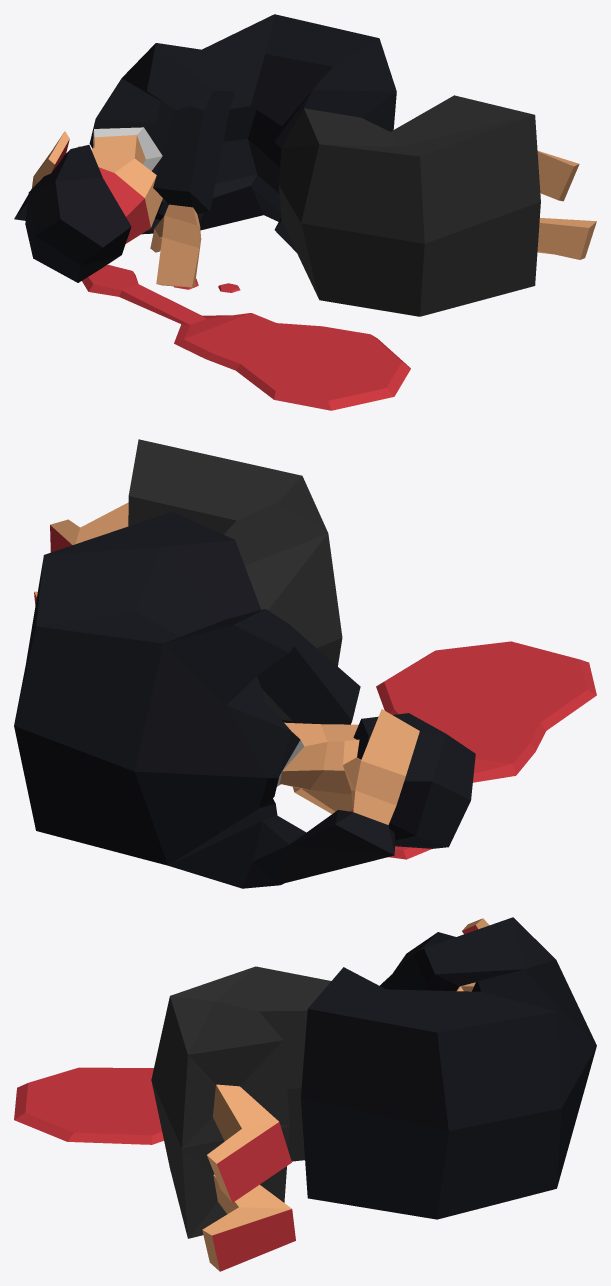
The model's file is apocalypse-man-samurai-black-dead-a.glb.
3 views of the same model, one above another, from view 1: azimuth 30°, elevation 25°; view 2: azimuth 150°, elevation 25°; view 3: azimuth 270°, elevation 25° (orthographic). The views are drawn at different scales.
Visible parts, largest first — view 1: man-samurai-black-dead-a; view 2: man-samurai-black-dead-a; view 3: man-samurai-black-dead-a.
Part boxes in pixels (x1,y1,x2,y2): man-samurai-black-dead-a: (14,14,596,410); man-samurai-black-dead-a: (14,439,596,888); man-samurai-black-dead-a: (14,917,596,1271).
Bounding box in the file's own units: 1.14 × 0.461 × 1.17.
